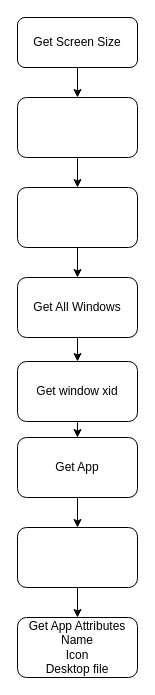
Image size: 155x695. Some labels were removed from this diagram. The shapes that lost their labels are listed below. From the top down, each one's box as (x1, y1, x2, y2) in pixels, then its label:
(16, 96, 138, 158): Scaled Screen Size by 1/5
(16, 186, 138, 248): Get number of workspace
(16, 526, 138, 588): Exclude whitelist apps
